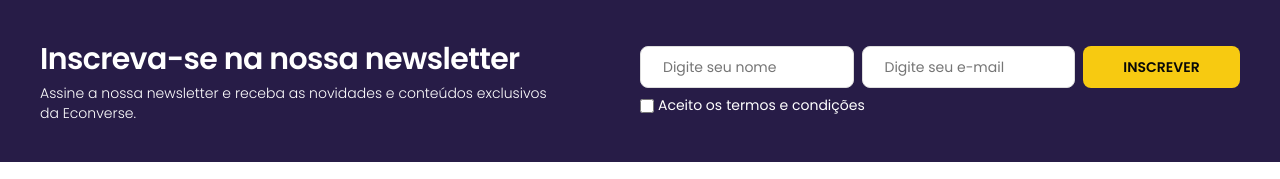
Scenario: valida o cadastro demonstrativo sem enviar dados ao servidor
Type "Pessoa Teste" into the field labelled "seu nome" at (747, 67), box [640,46,854,88]
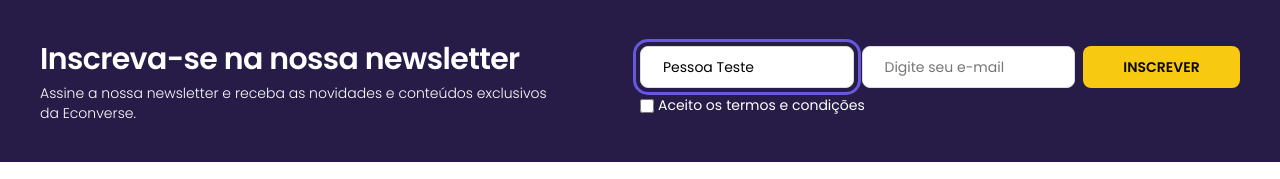
Type "teste@example.com" into the field labelled "seu e-mail" at (968, 67), box [862,46,1075,88]
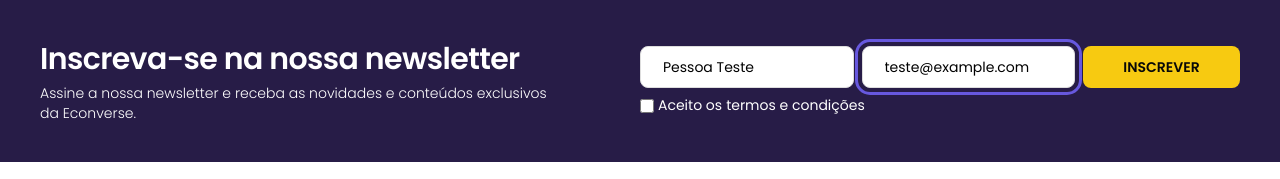
Click the checkbox at (647, 106), box [640,98,654,112]
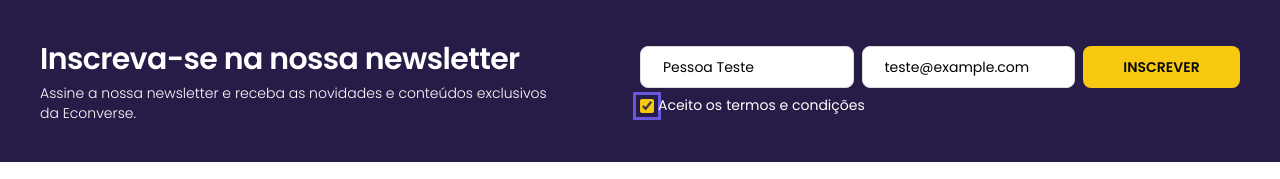
Click the button "Inscrever" at (1162, 67), box [1083,46,1240,88]
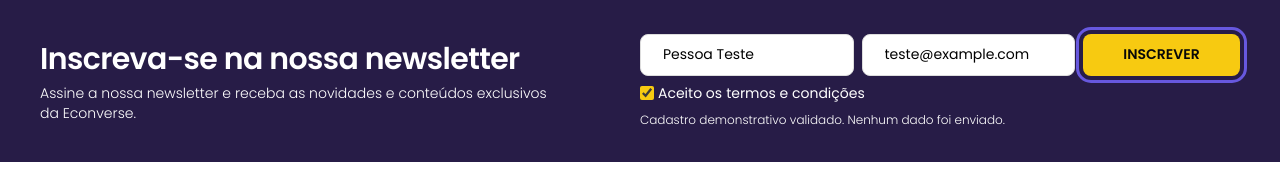
Check: the message shows "Nenhum dado foi enviado", box [640,111,1005,128]
